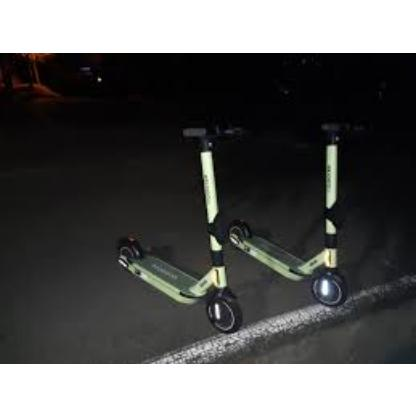bike: (116, 120, 370, 335)
